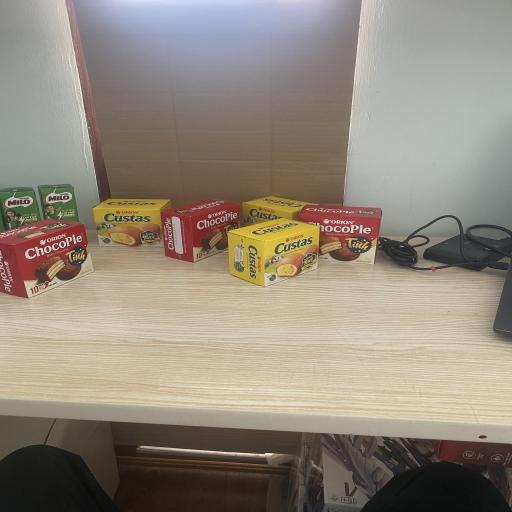chocopie: (0, 218, 94, 298), (161, 198, 240, 263), (299, 204, 382, 265)
custas: (227, 218, 319, 286), (92, 198, 170, 247), (241, 196, 310, 228)
milo: (0, 187, 40, 229), (38, 183, 80, 222)
